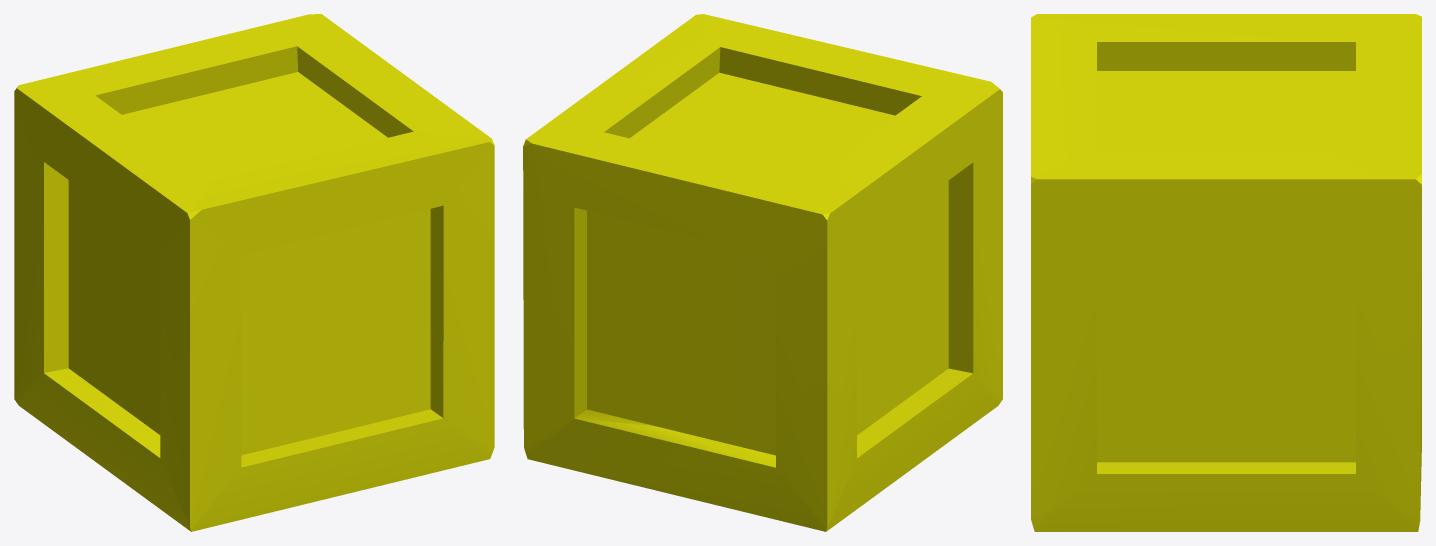
3 renders of one model, left to right at view 1: azimuth 30°, elevation 25°; view 2: azimuth 150°, elevation 25°; view 3: azimuth 270°, elevation 25°, orthographic. The views are drawn at different scales.
Parts seen in each view (by area): view 1: thunggo; view 2: thunggo; view 3: thunggo.
Part boxes in pixels (x1,y1,x2,y2): thunggo: (14,14,494,531); thunggo: (523,14,1002,531); thunggo: (1031,14,1421,531).
Size of the model in its own units: 1.69 by 1.71 by 1.69.
1 material, 1 textured.
